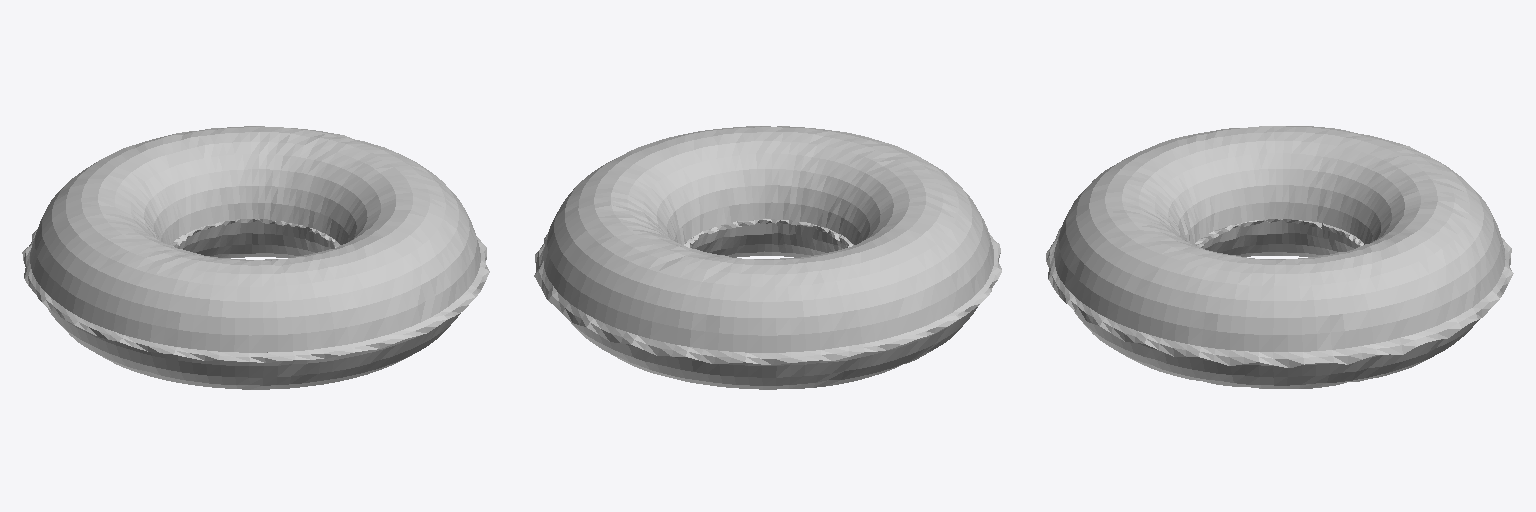
File: indflatable pool ring.obj
3 renders of one model, left to right at view 1: azimuth 30°, elevation 25°; view 2: azimuth 150°, elevation 25°; view 3: azimuth 270°, elevation 25°, orthographic.
Parts seen in each view (by area): view 1: Torus; view 2: Torus; view 3: Torus.
Part boxes in pixels (x1,y1,x2,y2): Torus: (22,126,489,389); Torus: (534,126,1001,389); Torus: (1046,126,1513,388).
Size of the model in its own units: 2.96 by 0.8132 by 2.96.